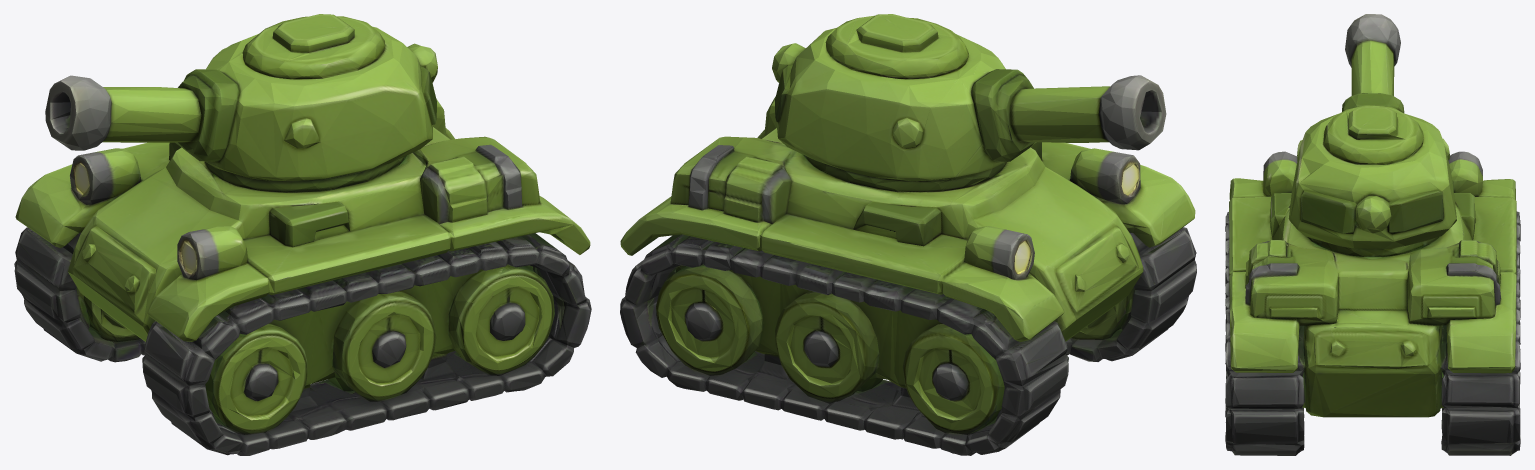
The model's file is mini_tank.glb.
3 renders of one model, left to right at view 1: azimuth 30°, elevation 25°; view 2: azimuth 150°, elevation 25°; view 3: azimuth 270°, elevation 25°, orthographic. The views are drawn at different scales.
Parts seen in each view (by area): view 1: geometry_0; view 2: geometry_0; view 3: geometry_0.
Part boxes in pixels (<box>): geometry_0: <box>14,14,591,455</box>; geometry_0: <box>620,14,1196,455</box>; geometry_0: <box>1225,14,1520,455</box>.
Bounding box in the file's own units: 1.9 × 1.36 × 1.28.
Materials: 1 (1 with a texture image).
